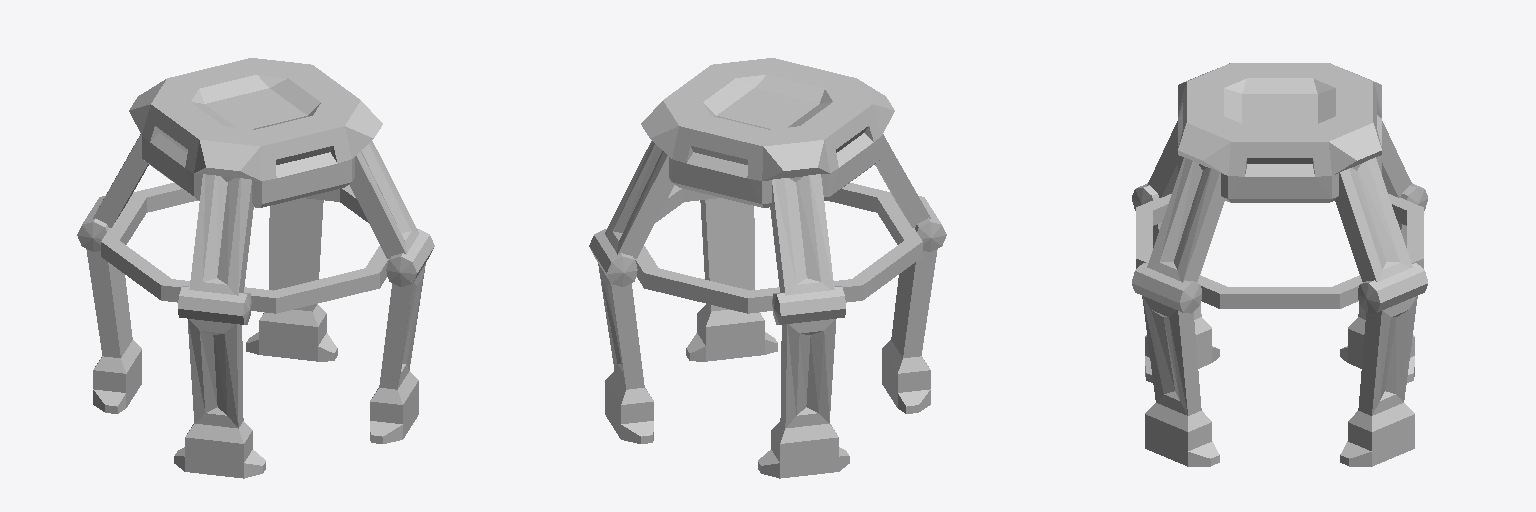
The model's file is structure_tall.obj.
3 views of the same model, side by side, from view 1: azimuth 30°, elevation 25°; view 2: azimuth 150°, elevation 25°; view 3: azimuth 270°, elevation 25° (orthographic).
Visible parts, largest first — view 1: structure_tall_Cylinder.2730; view 2: structure_tall_Cylinder.2730; view 3: structure_tall_Cylinder.2730.
Part boxes in pixels (x1,y1,x2,y2): structure_tall_Cylinder.2730: (77, 58, 434, 478); structure_tall_Cylinder.2730: (589, 58, 946, 478); structure_tall_Cylinder.2730: (1132, 63, 1427, 466).
Size of the model in its own units: 1.75 by 2 by 1.75.